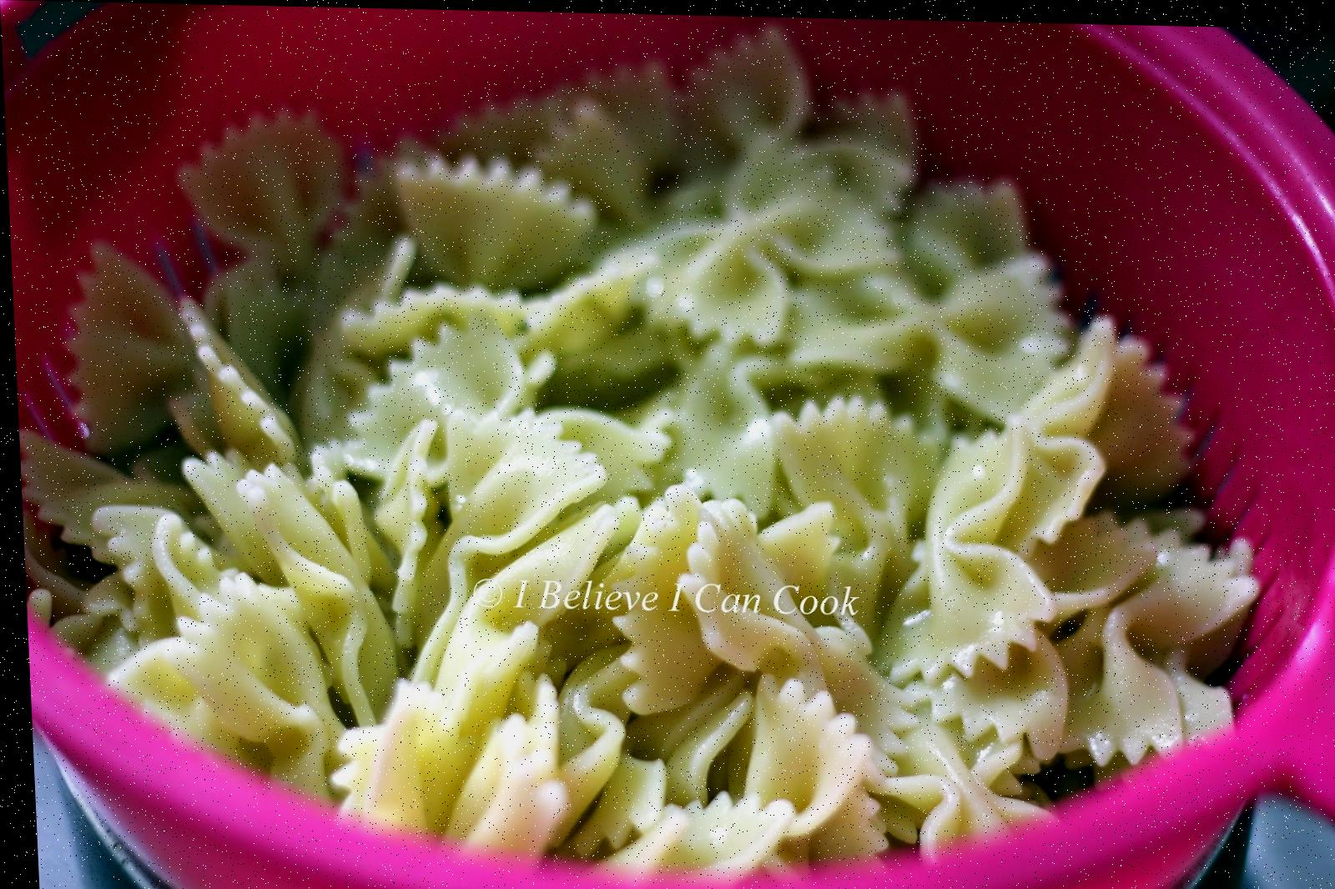pasta: (19, 29, 1257, 873)
